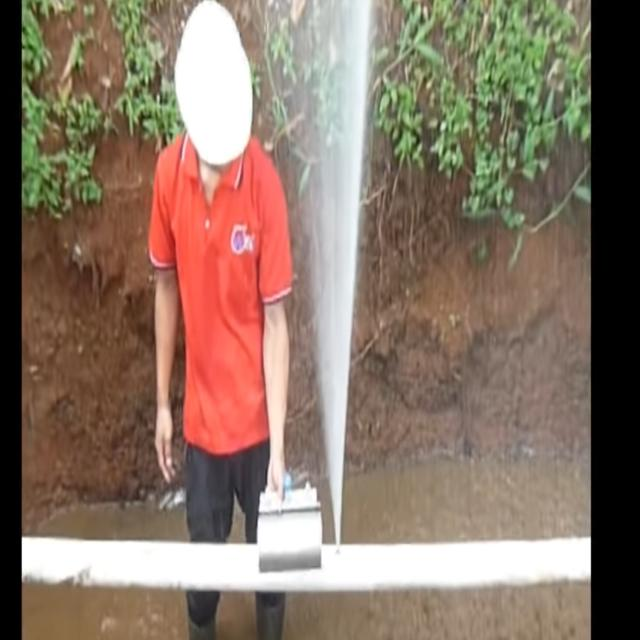leak: (253, 0, 375, 551)
